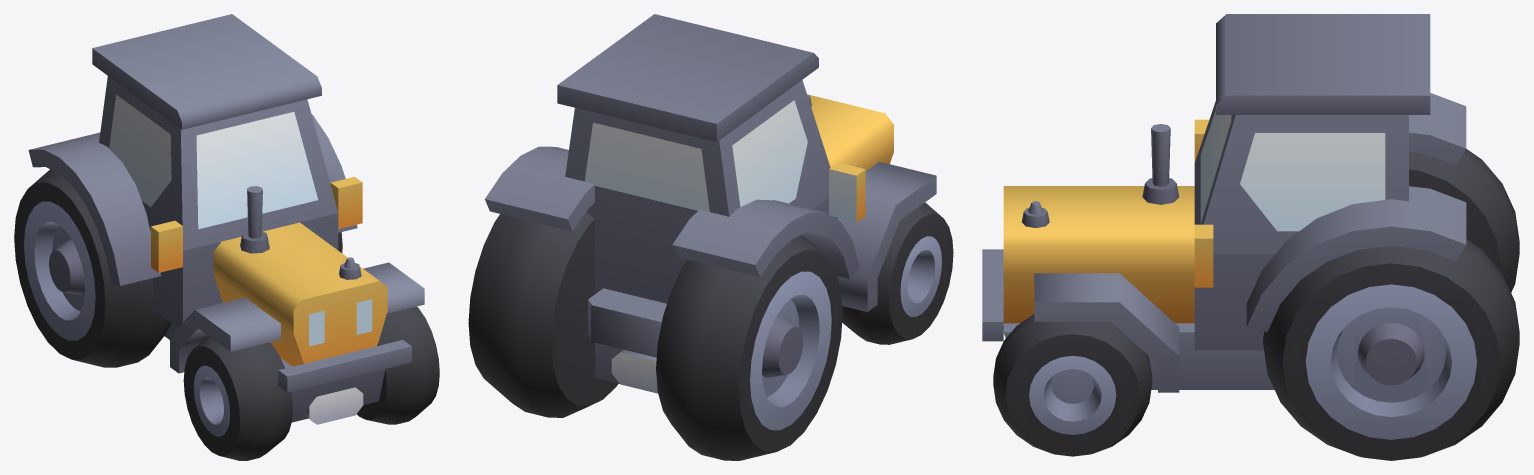
File: tractor.glb
3 views of the same model, side by side, from view 1: azimuth 30°, elevation 25°; view 2: azimuth 150°, elevation 25°; view 3: azimuth 270°, elevation 25° (orthographic). The views are drawn at different scales.
Parts seen in each view (by area): view 1: body, wheel-back-right, wheel-front-right, wheel-front-left; view 2: body, wheel-back-right, wheel-back-left, wheel-front-right; view 3: body, wheel-back-left, wheel-front-left, wheel-back-right.
Boxes of the visible parts, x1,y1,x2,y2 form: body: (28,14,424,424); wheel-back-right: (14,169,171,367); wheel-front-right: (183,336,292,460); wheel-front-left: (356,306,439,424); body: (485,14,936,393); wheel-back-right: (656,235,842,460); wheel-back-left: (468,211,618,417); wheel-front-right: (842,202,953,344); body: (982,14,1466,392); wheel-back-left: (1263,239,1519,460); wheel-front-left: (993,314,1152,456); wheel-back-right: (1409,149,1519,292).
Size of the model in its own units: 1.34 by 1.6 by 2.2.
1 material, 1 textured.
